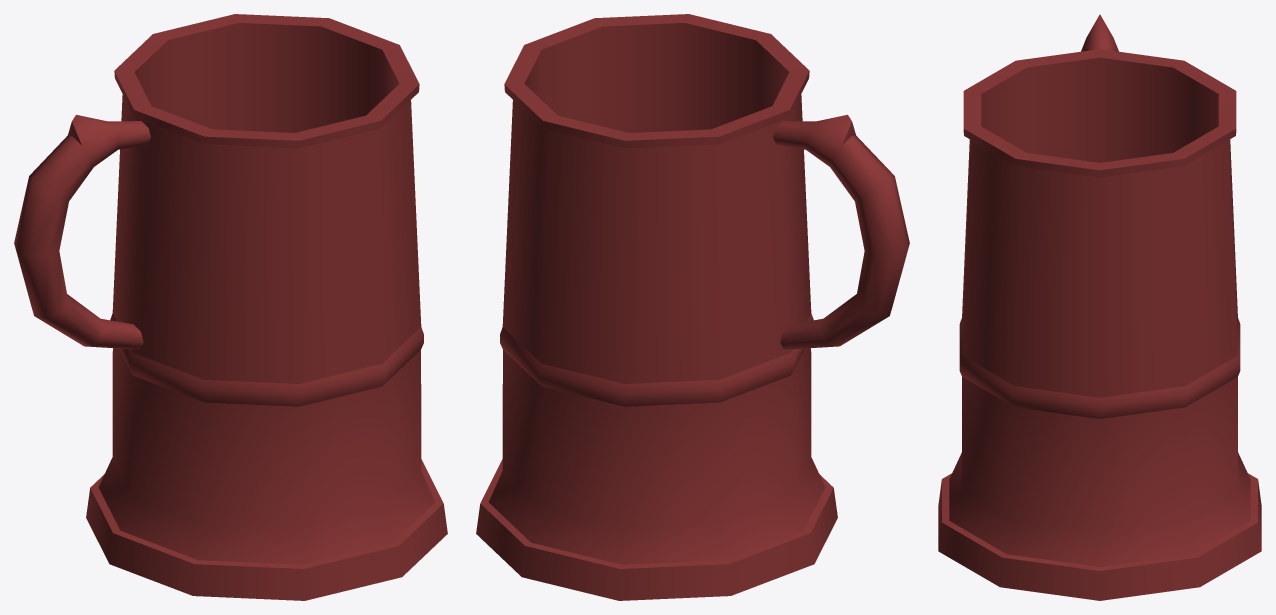
File: tankard.FBX
3 views of the same model, side by side, from view 1: azimuth 30°, elevation 25°; view 2: azimuth 150°, elevation 25°; view 3: azimuth 270°, elevation 25° (orthographic). The views are drawn at different scales.
Parts seen in each view (by area): view 1: TANKARD; view 2: TANKARD; view 3: TANKARD.
Boxes of the visible parts, left/top/right/bottom form: TANKARD: left=14, top=14, right=447, bottom=600; TANKARD: left=476, top=14, right=909, bottom=600; TANKARD: left=938, top=14, right=1261, bottom=600.
Size of the model in its own units: 8.4 by 9 by 6.17.
